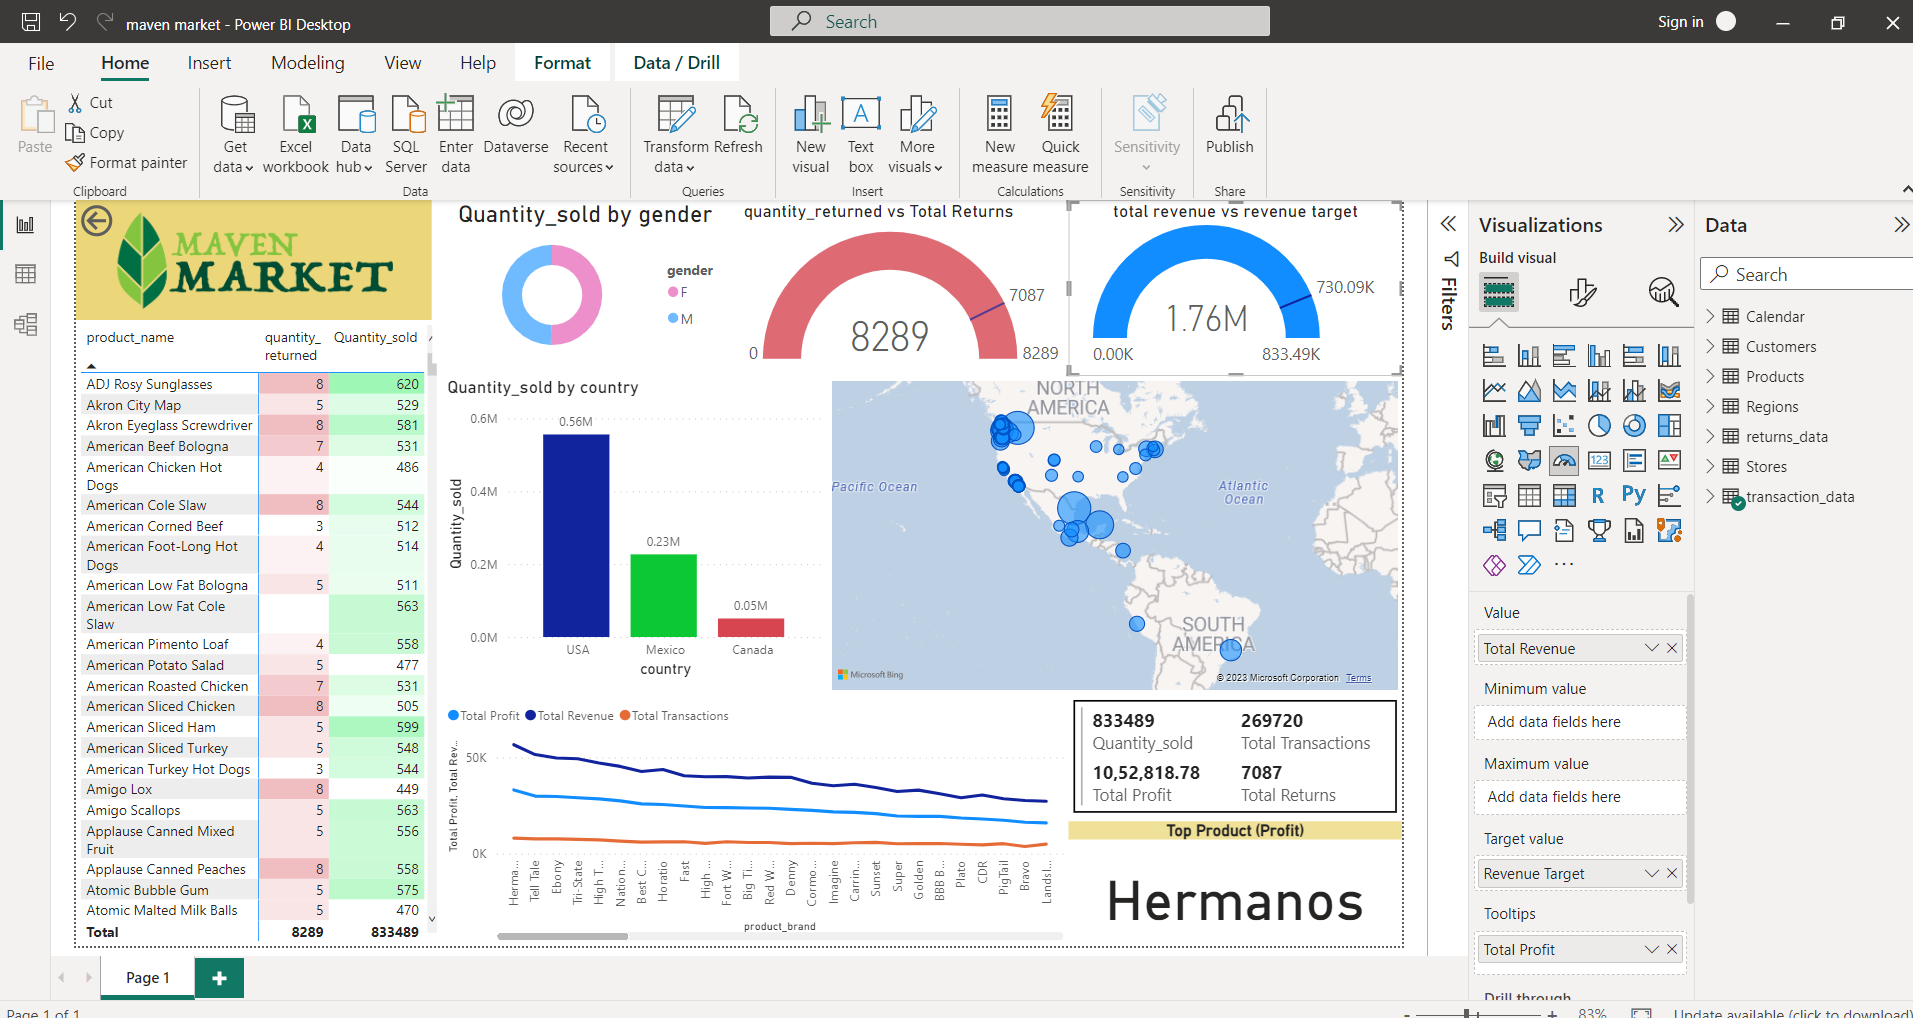

This screenshot's page, from the dashboard's own definition file:
{"tool":"powerbi","page":{"name":"Page 1","canvas":[1280,720],"ordinal":0},"visuals":[{"type":"image","box":[0,0,343.3,116.3],"z":0},{"type":"pivotTable","fields":{"Rows":["Products.product_name"],"Values":["returns_data.quantity_returned","transaction_data.Quantity_sold"]},"box":[0,116.3,352.9,604.6],"z":1000},{"type":"donutChart","title":"Quantity_sold by gender","fields":{"Category":["Customers.gender"],"Y":["transaction_data.Quantity_sold"]},"box":[343.3,0,295.4,157.3],"z":2000},{"type":"actionButton","box":[0,0,100,40],"z":3000},{"type":"gauge","title":"quantity_returned vs Total Returns","fields":{"Y":["returns_data.quantity_returned"],"TargetValue":["returns_data.Total Returns"]},"box":[639.5,0,318.4,170.2],"z":4000},{"type":"gauge","title":"total revenue vs revenue target","fields":{"TargetValue":["transaction_data.Revenue Target"],"Y":["transaction_data.Total Revenue"]},"box":[957.8,0,322.5,170.2],"z":5000},{"type":"map","title":"Quantity_sold by country","fields":{"Category":["Customers.customer_city"],"Size":["transaction_data.Quantity_sold"]},"box":[724.9,169.6,555.3,307.8],"z":7000},{"type":"lineChart","fields":{"Category":["Products.product_brand"],"Y":["transaction_data.Total Profit","transaction_data.Total Revenue","transaction_data.Total Transactions"]},"box":[352.9,477.4,604.6,242.1],"z":8000},{"type":"multiRowCard","fields":{"Values":["transaction_data.Quantity_sold","transaction_data.Total Transactions","transaction_data.Total Profit","returns_data.Total Returns"]},"box":[957.5,477.4,321.4,121.7],"z":9000},{"type":"clusteredColumnChart","title":"Quantity_sold by country","fields":{"Category":["Customers.customer_country"],"Y":["transaction_data.Quantity_sold"]},"box":[352.9,169.6,372,295.4],"z":9001},{"type":"card","title":"Top Product (Profit)","fields":{"Values":["Products.product_brand"]},"box":[957.5,599.1,321.4,120.4],"z":9002}]}

Visuals, with their boxes on the page's 1280x720 design canvas (x1, y1, x2, y2). These are canvas units, not pixel positions in the 1913x1018 screenshot, which may show the page scaled, cropped or inside an application window:
image: bbox(0, 0, 343, 116)
pivotTable - Products.product_name x returns_data.quantity_returned: bbox(0, 116, 353, 721)
"Quantity_sold by gender" donutChart: bbox(343, 0, 639, 157)
actionButton: bbox(0, 0, 100, 40)
"quantity_returned vs Total Returns" gauge: bbox(640, 0, 958, 170)
"total revenue vs revenue target" gauge: bbox(958, 0, 1280, 170)
"Quantity_sold by country" map: bbox(725, 170, 1280, 477)
lineChart - Products.product_brand x transaction_data.Total Profit: bbox(353, 477, 958, 720)
multiRowCard - transaction_data.Quantity_sold x transaction_data.Total Transactions: bbox(958, 477, 1279, 599)
"Quantity_sold by country" clusteredColumnChart: bbox(353, 170, 725, 465)
"Top Product (Profit)" card: bbox(958, 599, 1279, 720)
